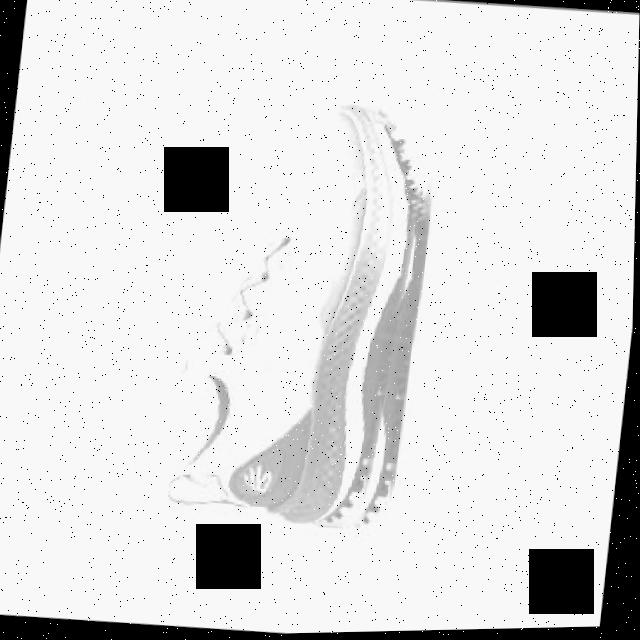shoe: (168, 92, 437, 539)
